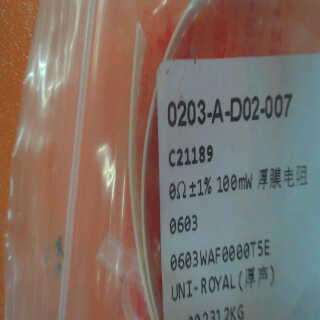0R: (168, 171, 216, 233)
